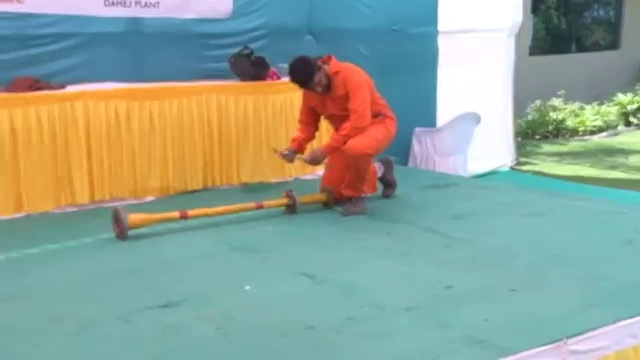helmet_off: (288, 55, 330, 94)
person: (283, 52, 397, 217)
